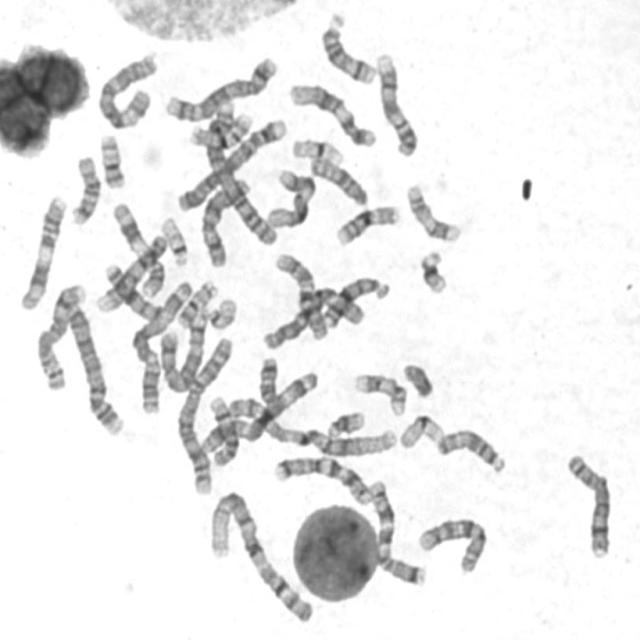A1: (204, 486, 316, 625), (217, 392, 400, 458)
A2: (202, 92, 280, 248), (172, 331, 235, 496)
A3: (199, 366, 321, 457), (129, 275, 194, 416)
B4: (173, 112, 289, 214), (59, 297, 125, 438)
B5: (162, 51, 279, 124), (156, 304, 210, 394)
C10: (271, 248, 330, 341), (414, 511, 489, 575)
C11: (16, 189, 68, 312), (108, 199, 166, 299)
C12: (285, 77, 378, 148), (263, 166, 318, 229)
C6: (258, 282, 374, 352), (93, 47, 159, 131)
C7: (365, 474, 429, 588), (269, 452, 375, 506)
C8: (31, 278, 88, 392), (562, 447, 615, 561)
C9: (93, 228, 170, 313), (371, 47, 420, 158)
D13: (100, 259, 166, 323), (318, 272, 392, 329)
D14: (318, 9, 379, 86), (203, 391, 241, 469)
D15: (433, 424, 509, 476), (306, 152, 370, 208)
E16: (331, 200, 402, 248), (186, 107, 255, 149)
E17: (402, 179, 463, 244), (350, 368, 410, 418)
E18: (66, 151, 102, 227), (255, 352, 282, 407)
F19: (396, 409, 446, 451), (288, 133, 346, 166)
F20: (172, 276, 220, 330), (95, 129, 128, 191)
G21: (415, 245, 450, 296), (321, 406, 366, 441)
G22: (157, 212, 192, 268), (203, 293, 239, 331)
X: (197, 174, 253, 268)
Y: (399, 358, 436, 399)
